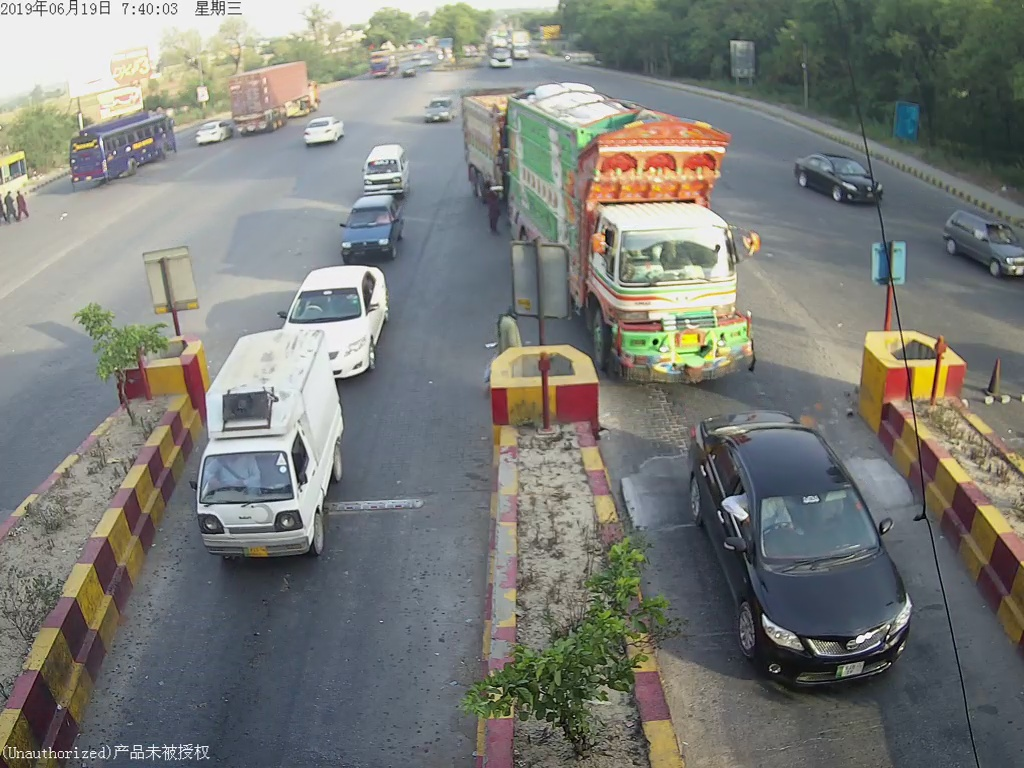Cat-1: (692, 412, 924, 695), (200, 340, 353, 564), (333, 200, 407, 266)
Cat-4: (504, 85, 763, 379)
